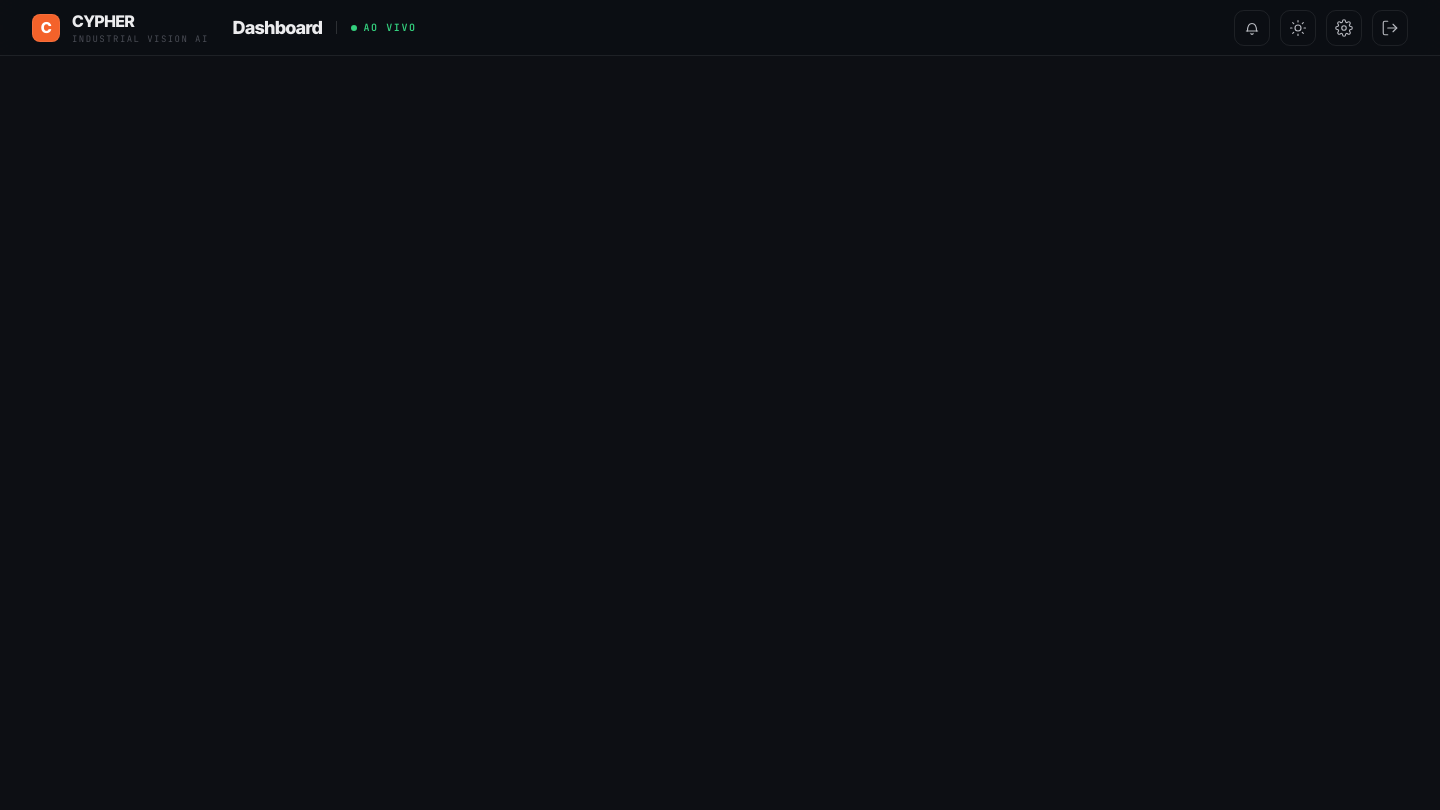
ChromeTopbarComponent › clicar no sino abre a central de notificacoes
Click the button with test id "open-notifications".
click(1252, 28)  # box [1234,10,1270,46]
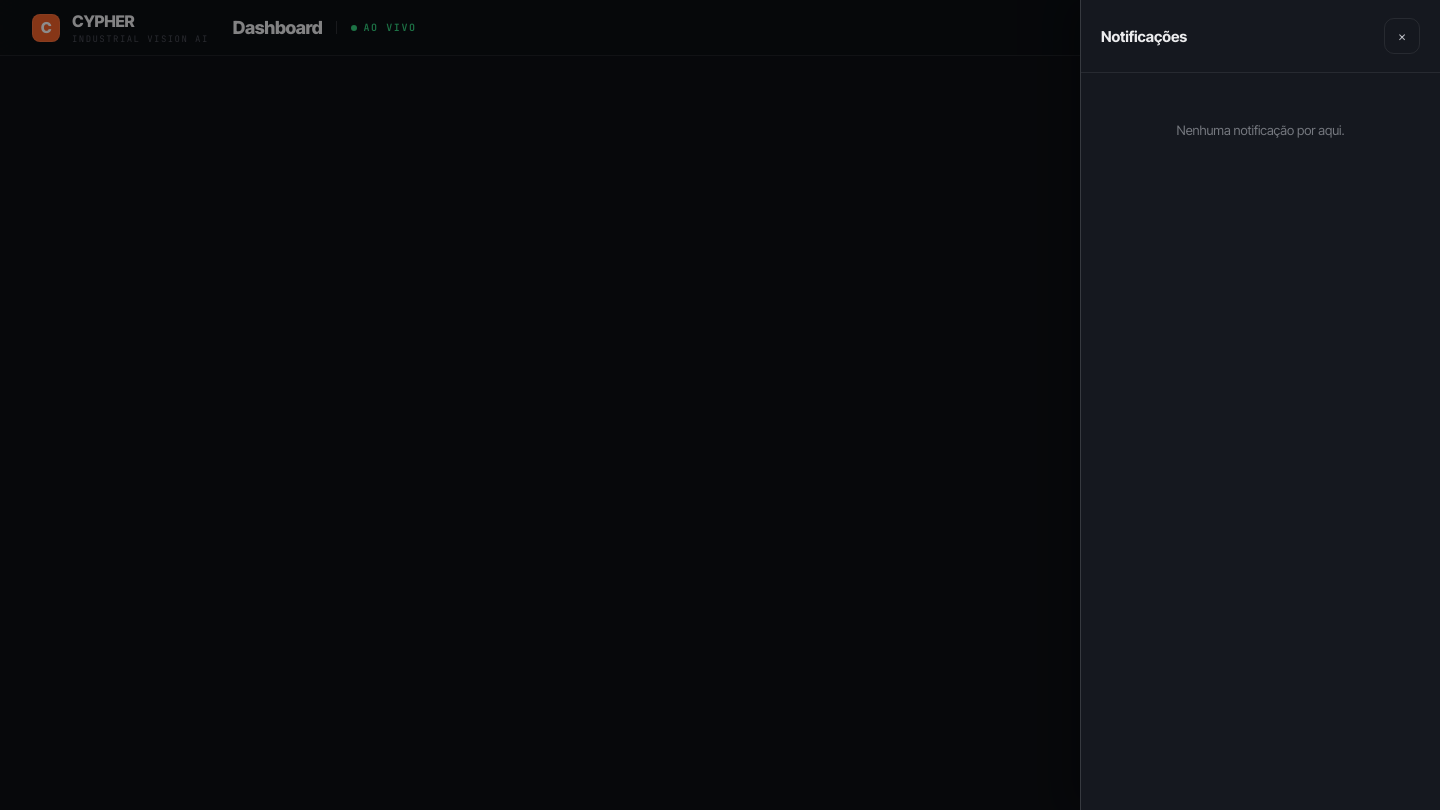
Expected: the dialog with class "notif-offcanvas" is shown, [1080,0,1439,809]
